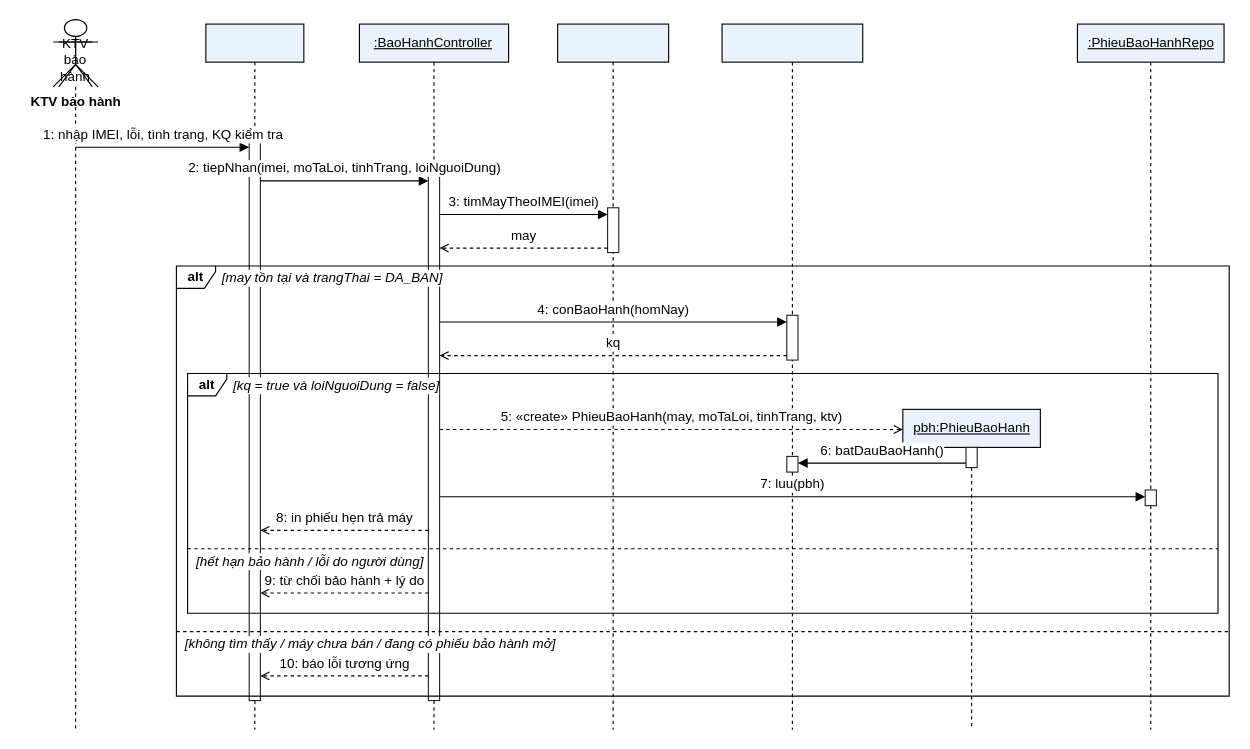
This 1250x749 diagram has some shape labels left out. Each missing label, with the box of its shape:
:BaoHanhUI: (205, 23, 304, 730)
:KhoHangRepo: (557, 23, 669, 730)
may:MayDienThoai: (721, 23, 863, 730)
